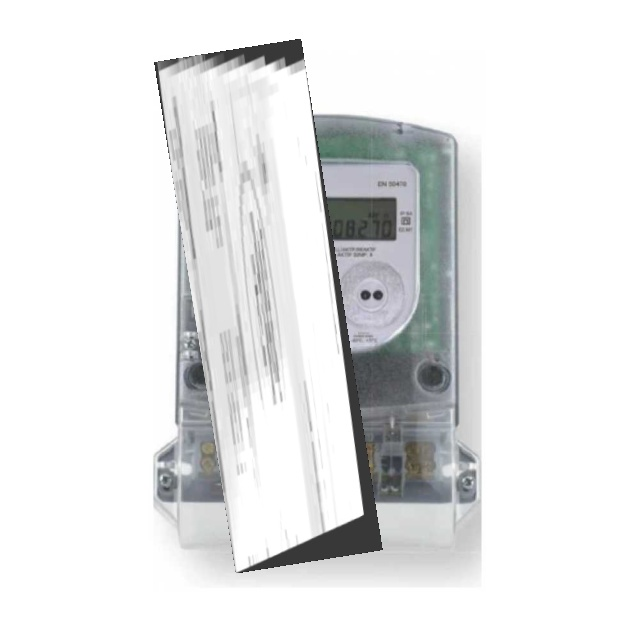electricity-bill: (154, 39, 382, 573)
